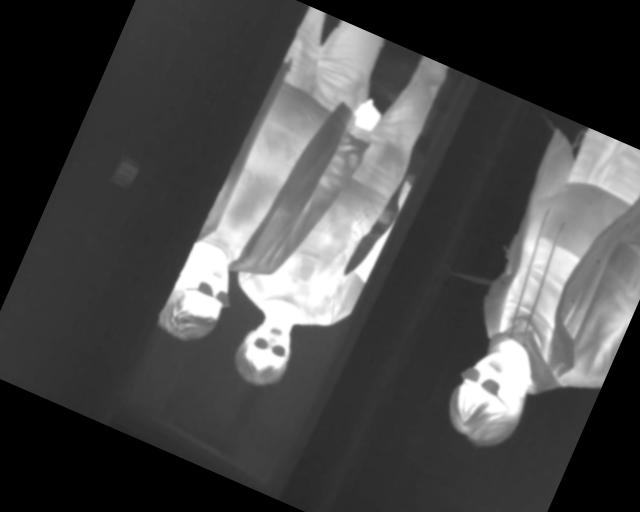face: (437, 341, 542, 459), (154, 243, 243, 351), (227, 308, 304, 395)
